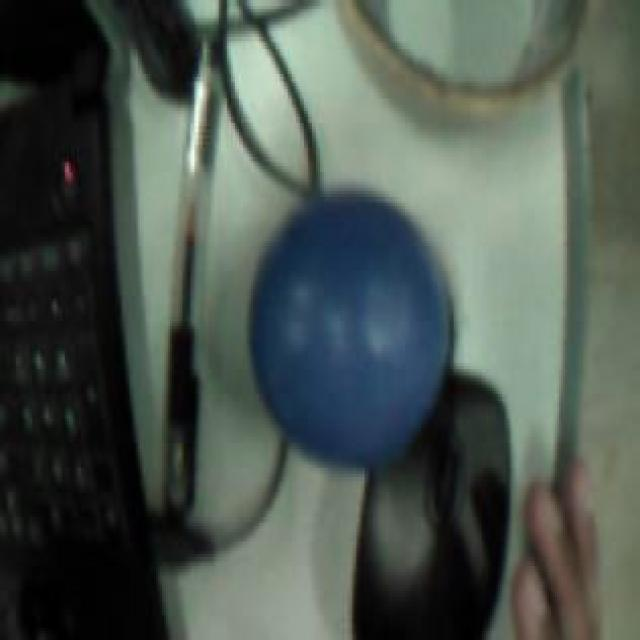BallPurple: (252, 187, 449, 470)
